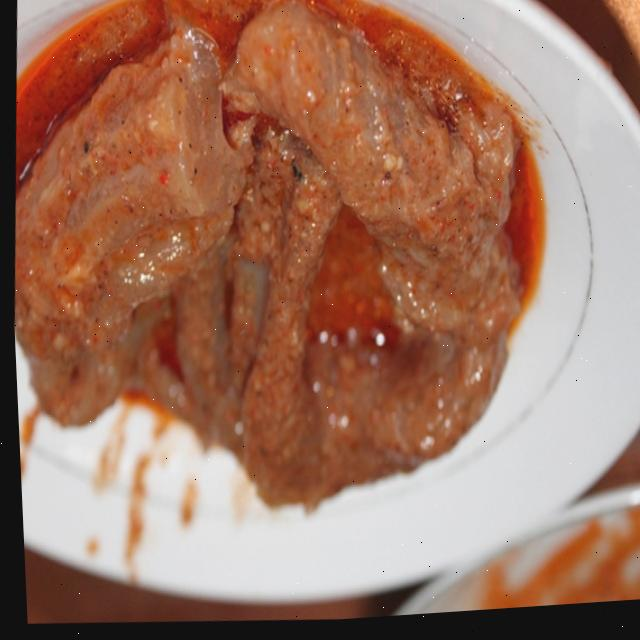熟制海鲜: (0, 0, 631, 639)
